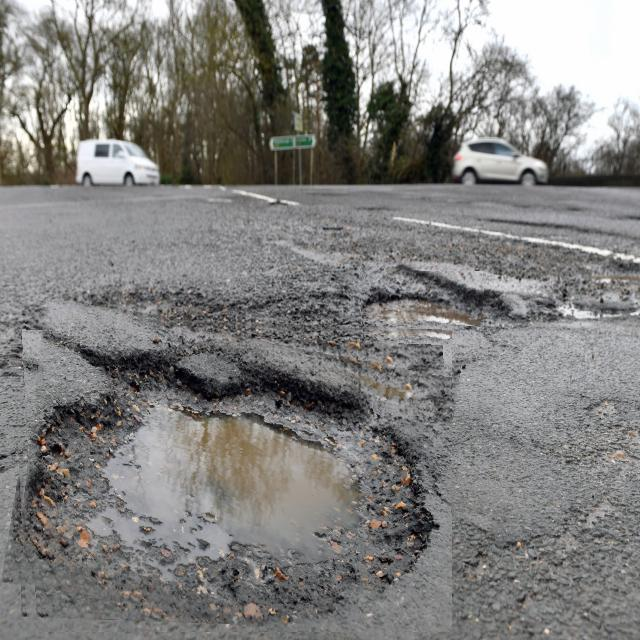Pothole: (11, 314, 452, 632), (362, 268, 486, 324)
